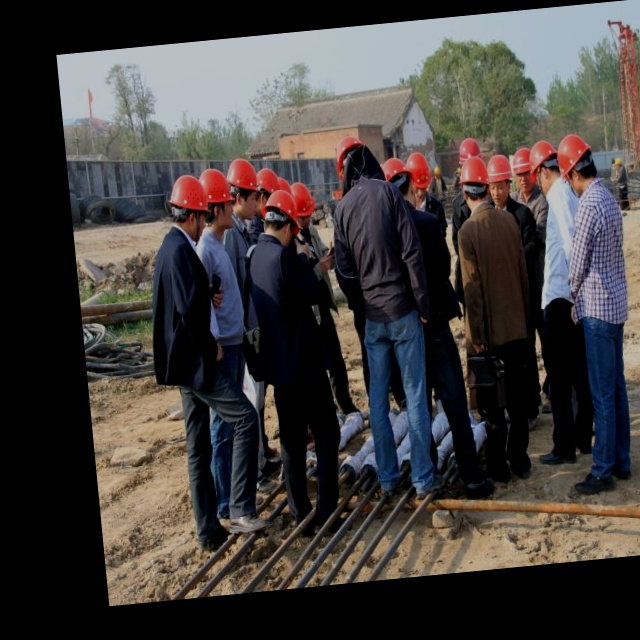Con_Casco: (169, 172, 209, 236), (261, 186, 300, 244)
Sin_Chaleco: (330, 183, 422, 313)
